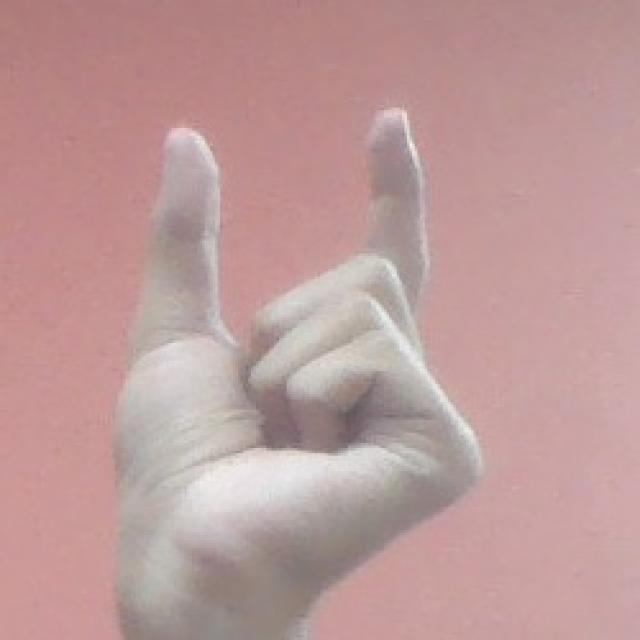Alphabet-U: (113, 102, 500, 593)
